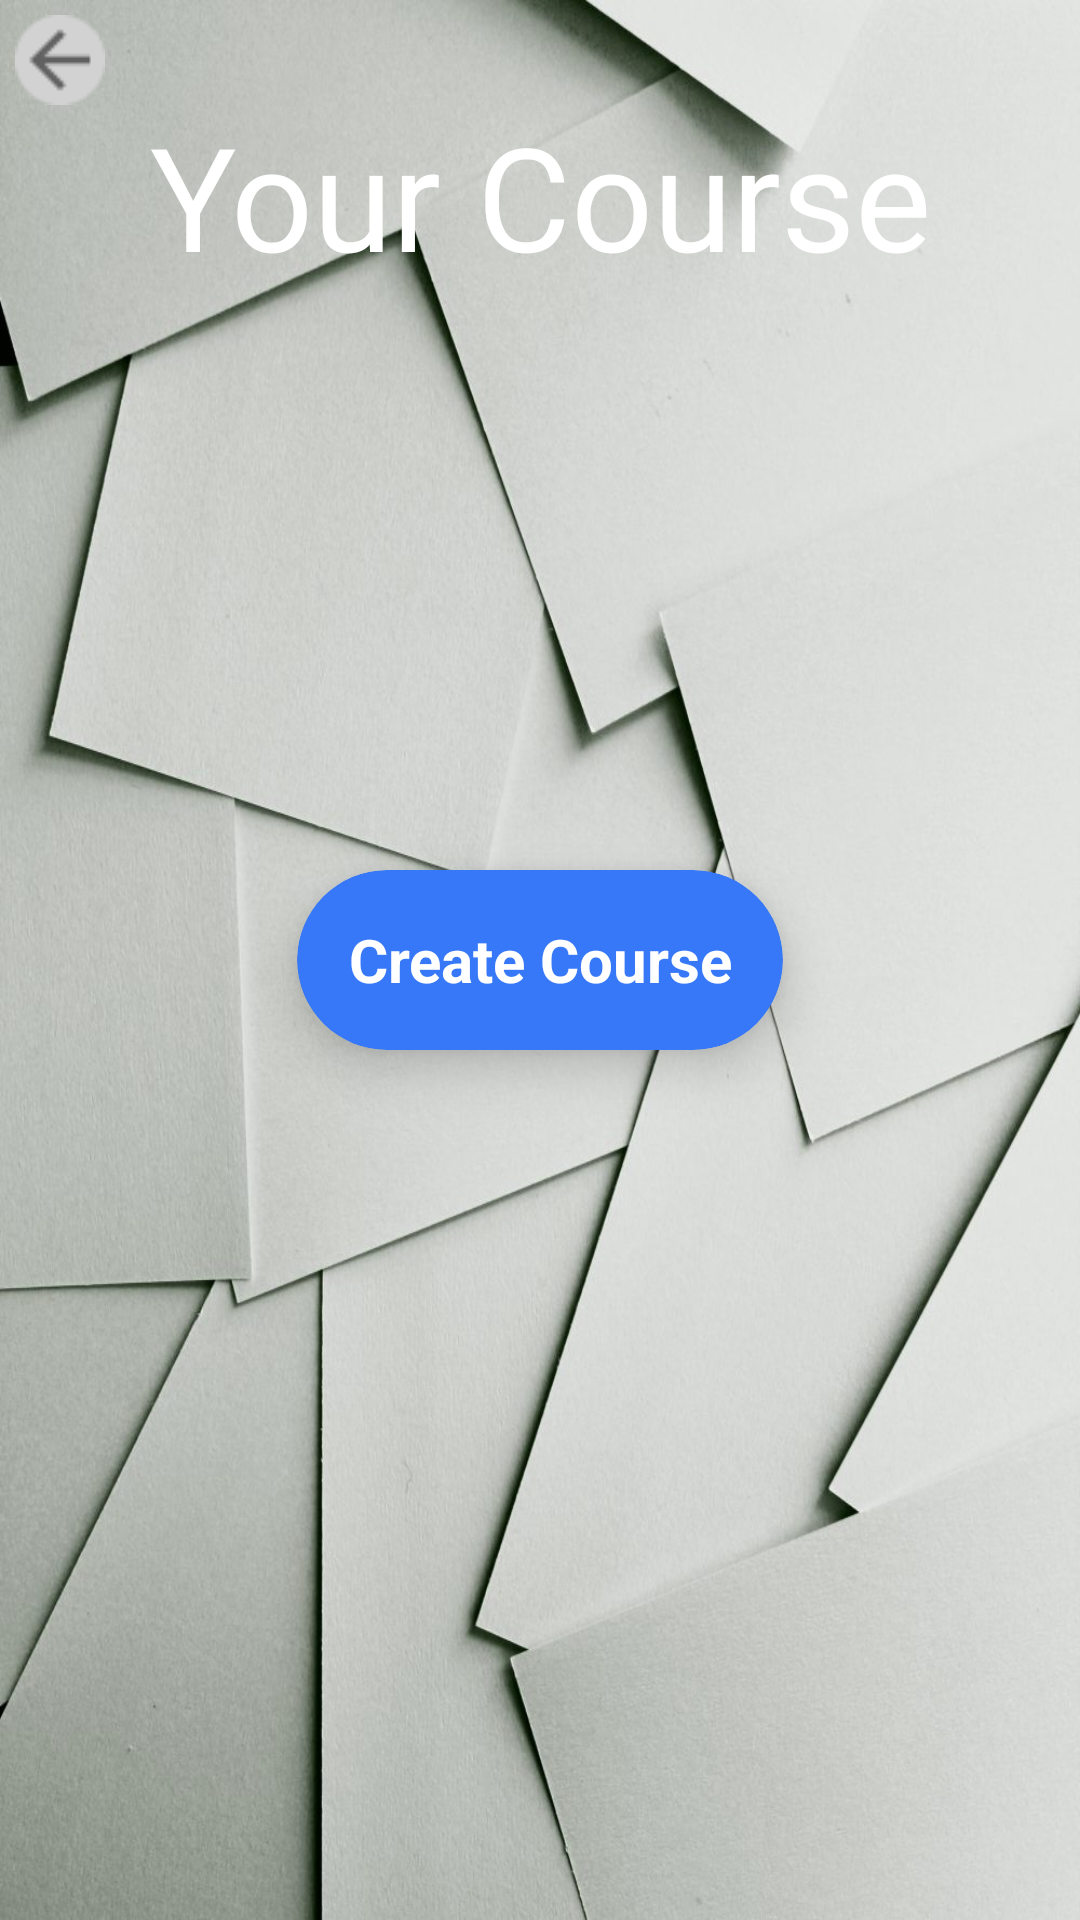

Point at icon controls on the screen. Image size 1080x1920, points as point (x, y).
back: point (60, 60)
